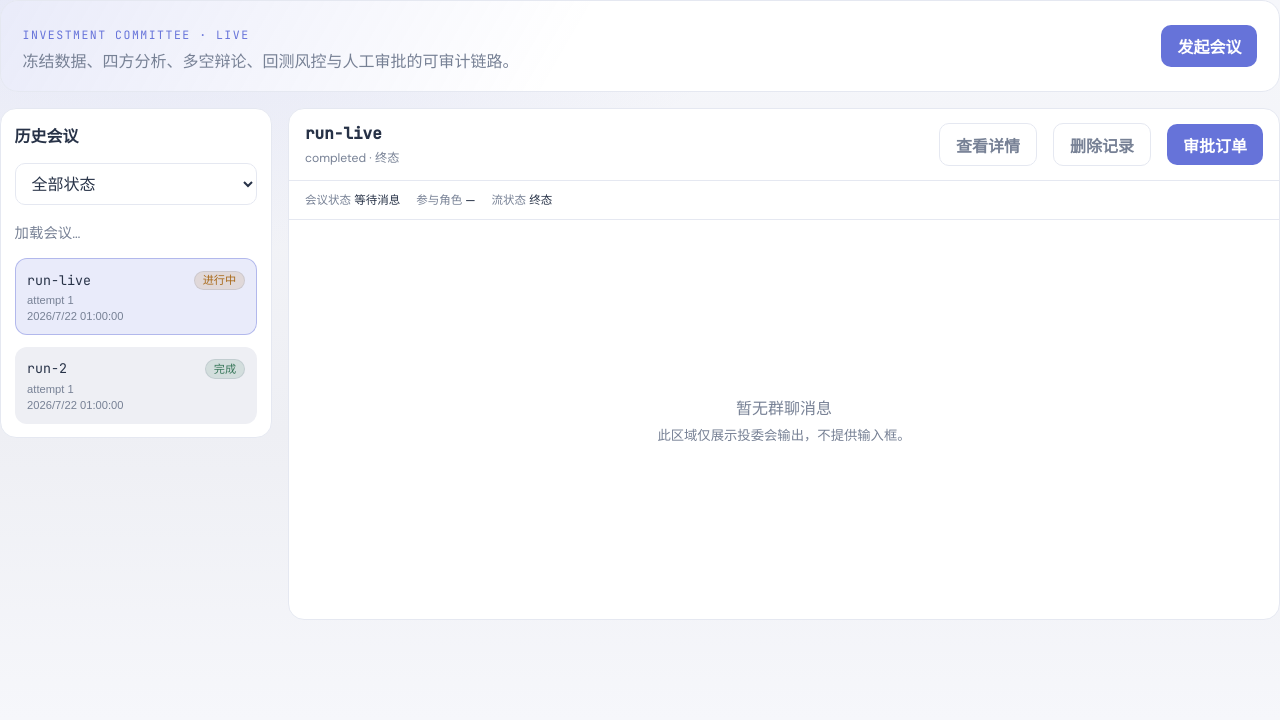
Test: CommitteePage › 删除前旧列表请求乱序返回时不会复活已删除记录
The width and height of the screenshot is (1280, 720).
Click the button "删除记录".
click(1102, 145)  # box [1053,123,1151,166]
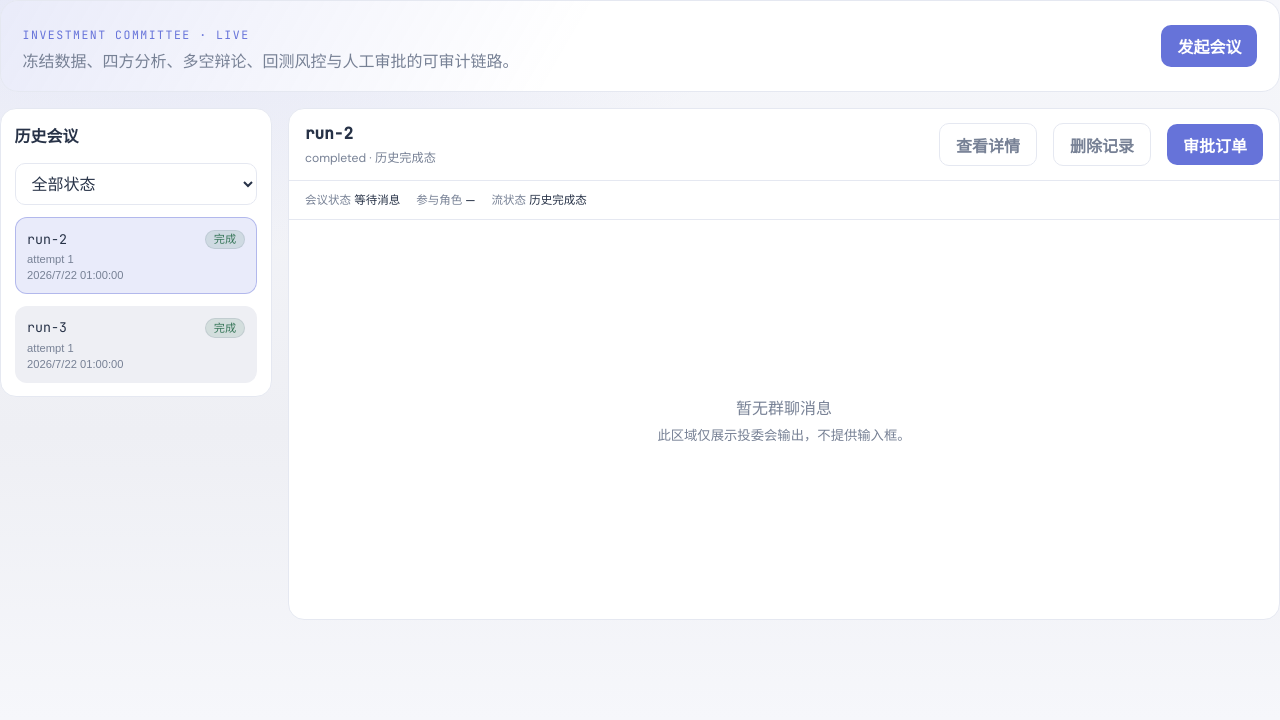
Now the button "run-3 完成 attempt 1 2026/7/22 01:00:00" is shown, box [15,306,257,383]
Now the button "run-live" is gone
Now the heading "run-2" is shown, box [305,123,353,144]
